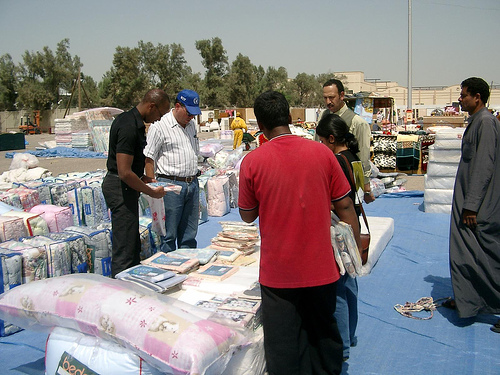without_mask: (135, 89, 171, 128), (457, 82, 492, 119), (319, 81, 348, 114), (170, 95, 199, 128)
